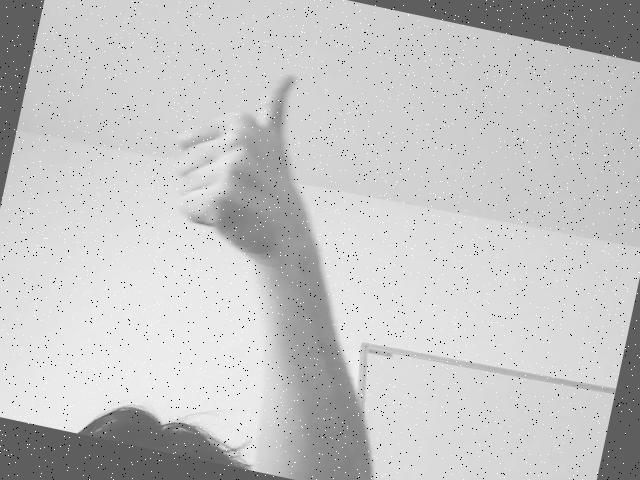good: (161, 64, 318, 267)
